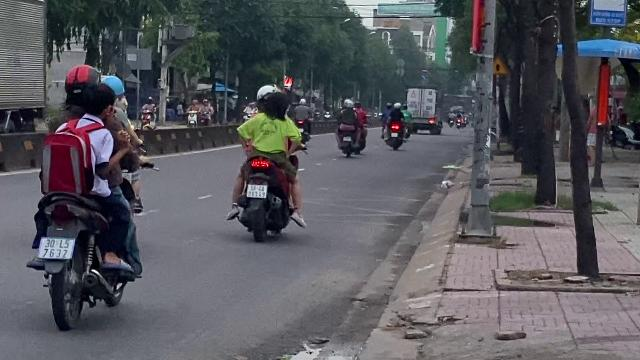helmet: (60, 64, 100, 112), (256, 84, 276, 100)
licenseplate: (38, 238, 74, 258), (247, 184, 267, 198)
motorcyclist: (23, 62, 148, 330), (226, 83, 308, 241)
nohelmet: (80, 81, 116, 124), (264, 94, 288, 120)
